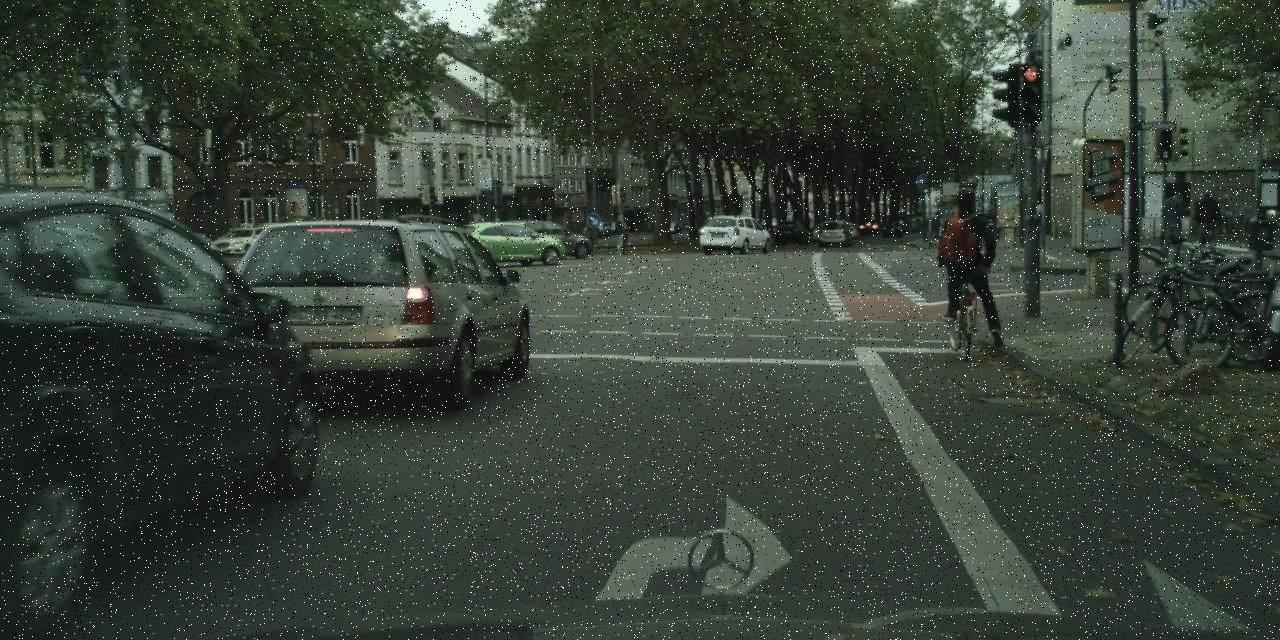ped: (941, 186, 1000, 332), (1158, 189, 1188, 262), (1194, 192, 1218, 252), (610, 212, 628, 254), (1028, 198, 1043, 236), (614, 218, 628, 253)
